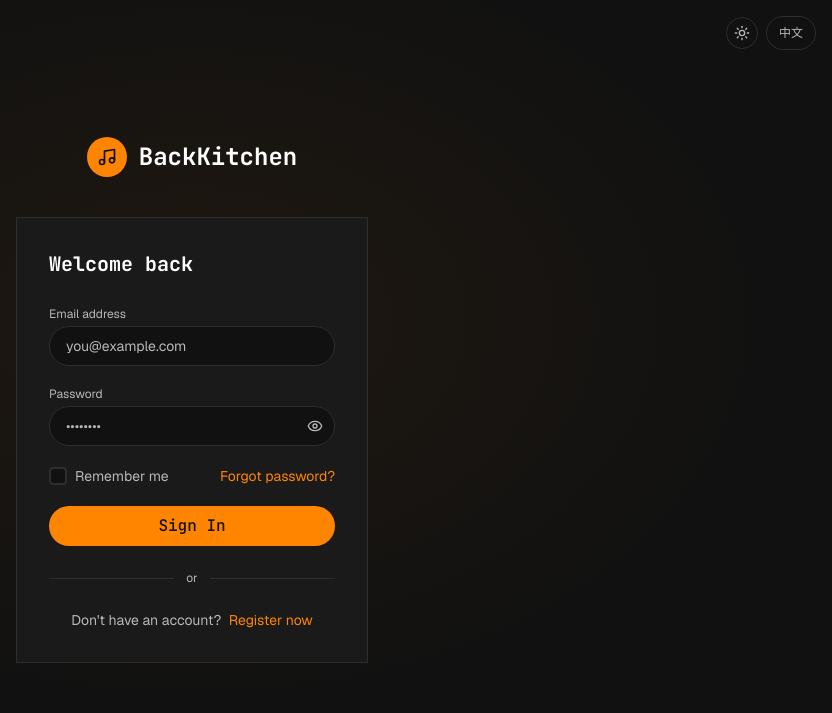
it: LoginView › shows API error message on login failure
Type "bad@test.com" into the field with placeholder "you@example.com" at (192, 346), box [49, 326, 335, 366]
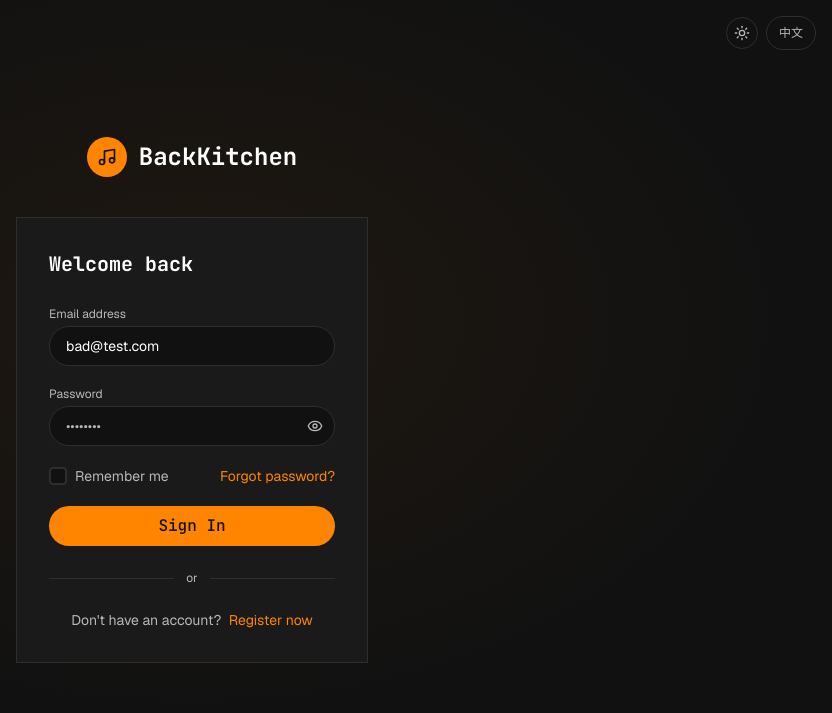
Type "wrong" into the password field with placeholder "••••••••" at (192, 426), box [49, 406, 335, 446]
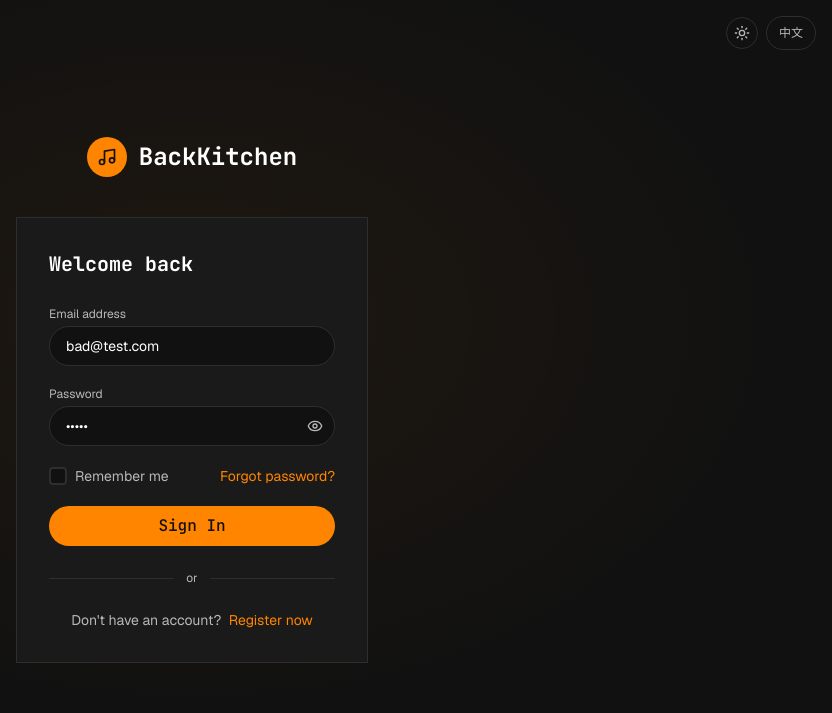
Submit the form, box [49, 306, 335, 546]
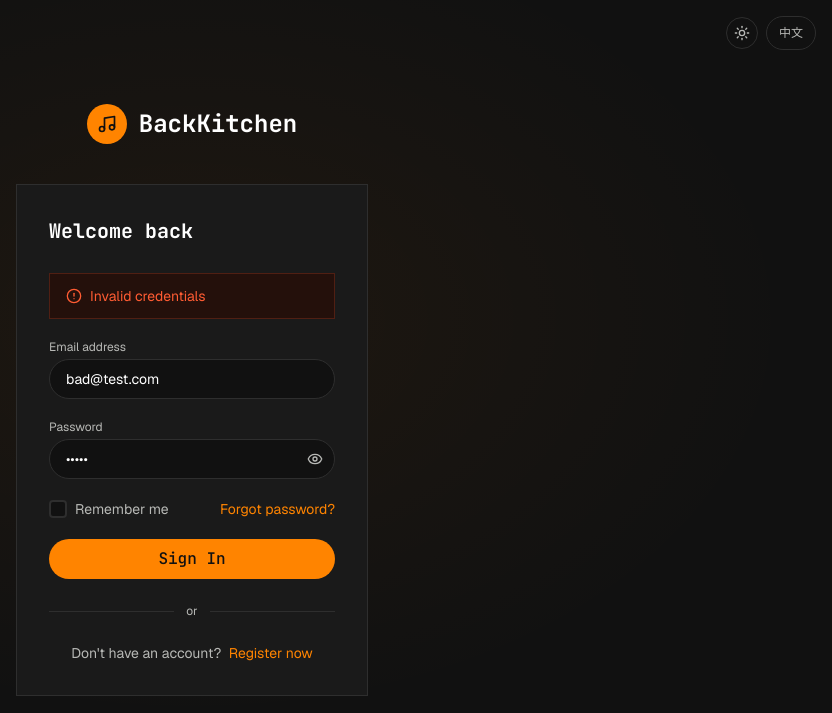
Check: the text "Invalid credentials" is shown, box [90, 286, 206, 306]
